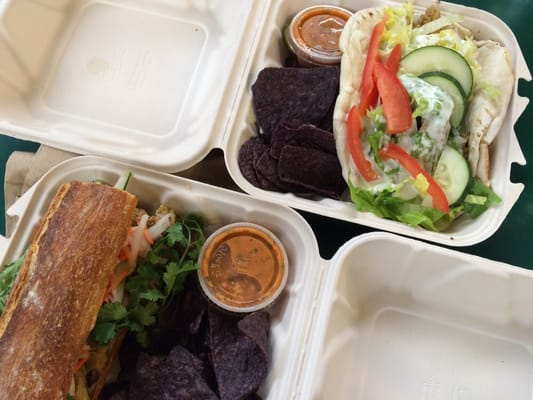soup: (0, 180, 147, 400)
sushi: (1, 155, 321, 400), (223, 1, 523, 249), (197, 222, 290, 315), (285, 4, 354, 67)
